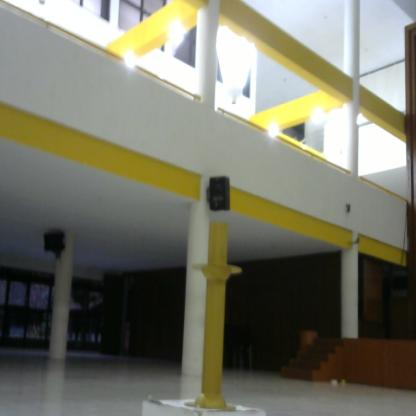pole: (183, 219, 246, 416)
